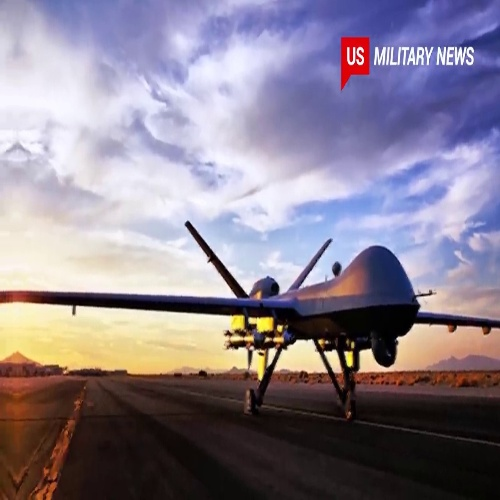uav291: (3, 219, 500, 424)
